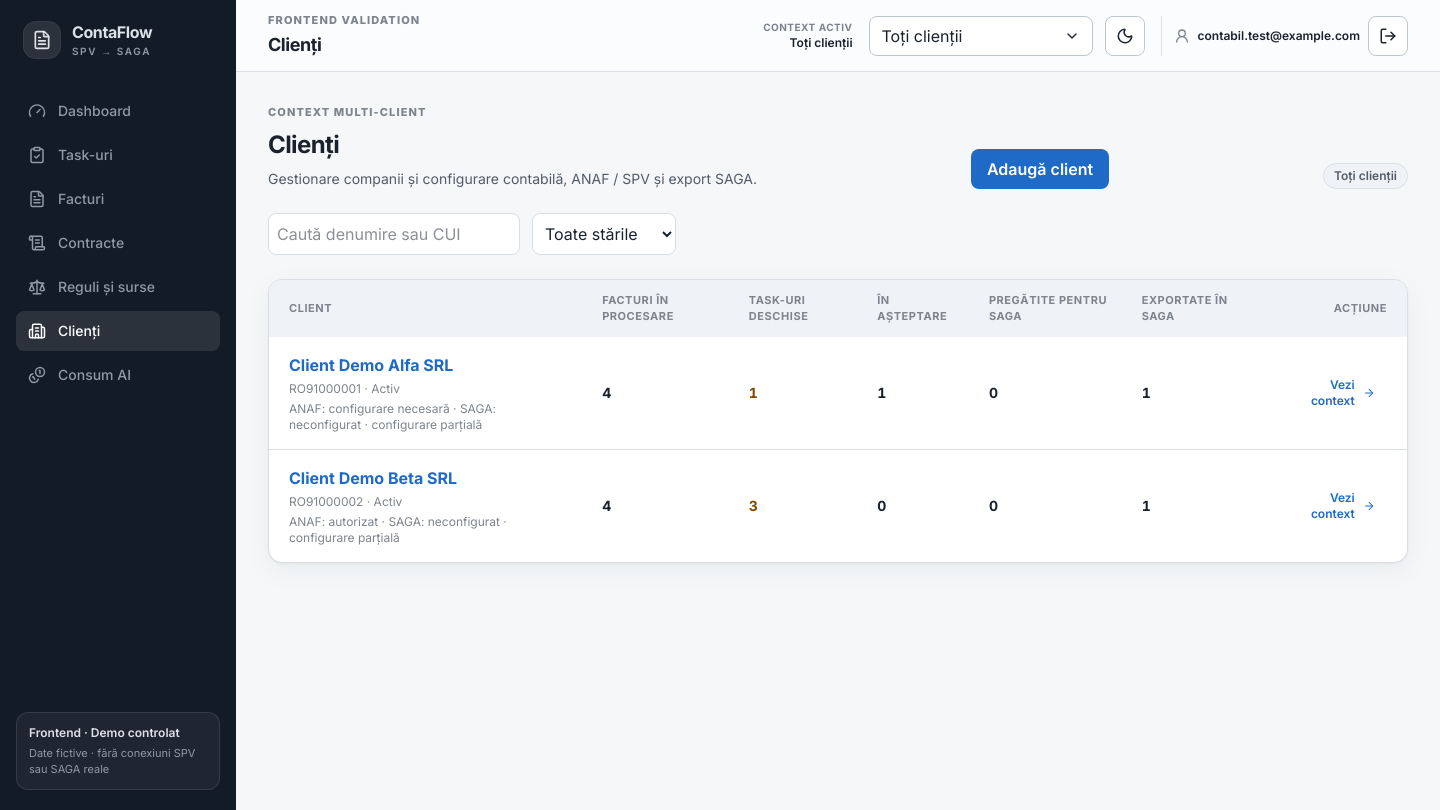
Test: Clients workspace › limits the Clients List to the selected client context
Click the dropdown named "Selectează clientul".
click(980, 36)  # box [868,16,1092,56]
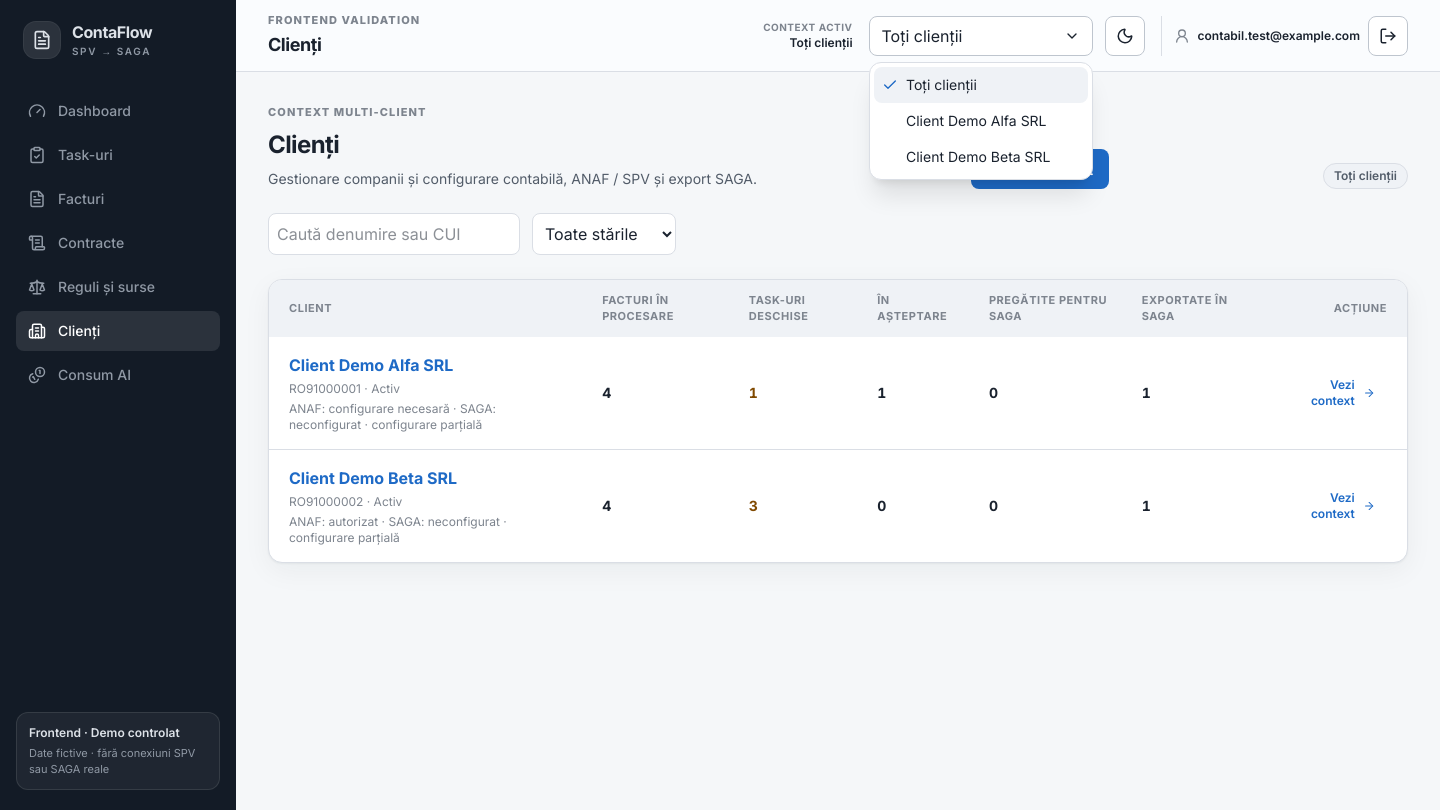
Click the option "Client Demo Alfa SRL".
click(976, 120)  # box [906,112,1046,129]
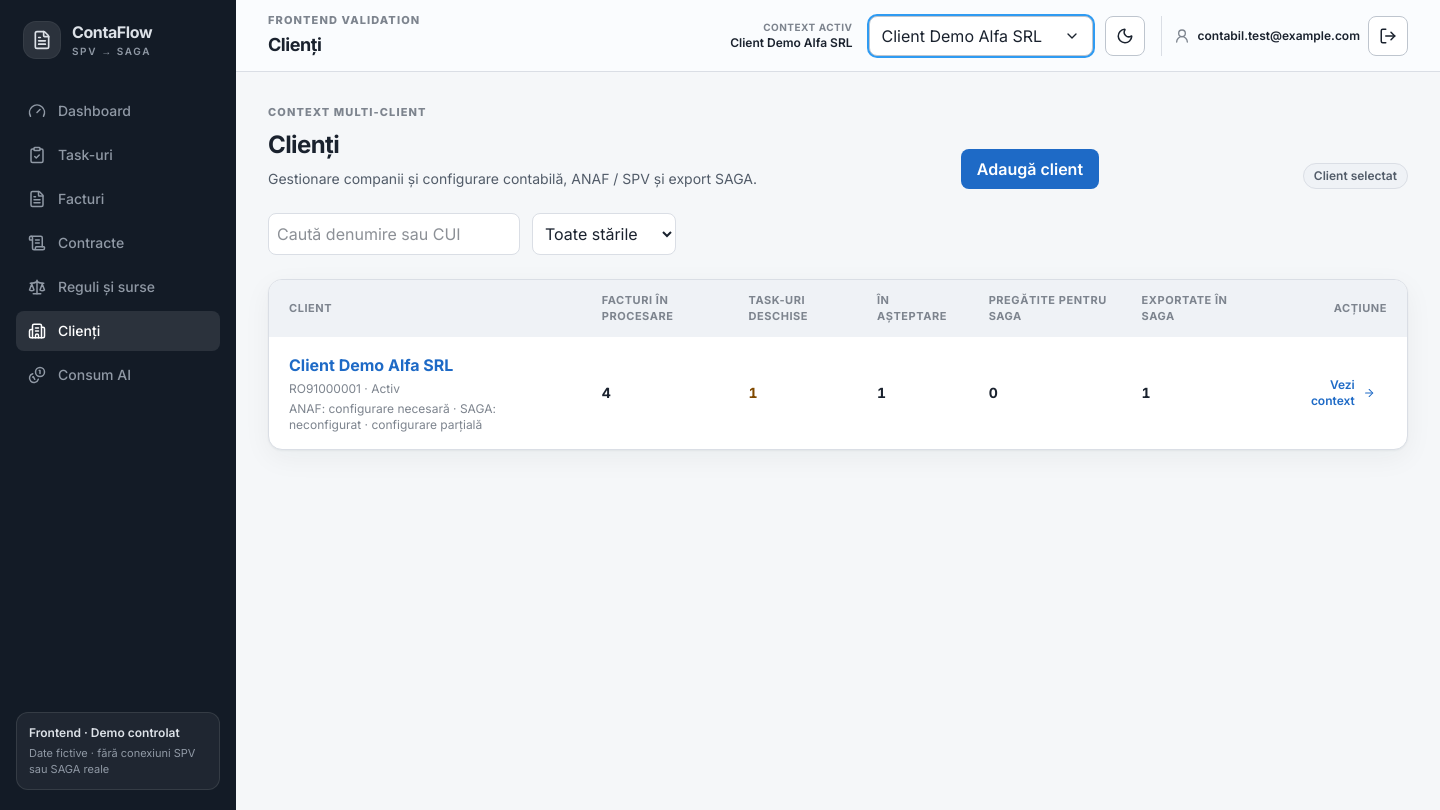
Expected: the link "Client Demo Beta SRL" is gone
Expected: the text "Client Demo Alfa SRL" below "Context activ" is shown, [730,35,853,50]
